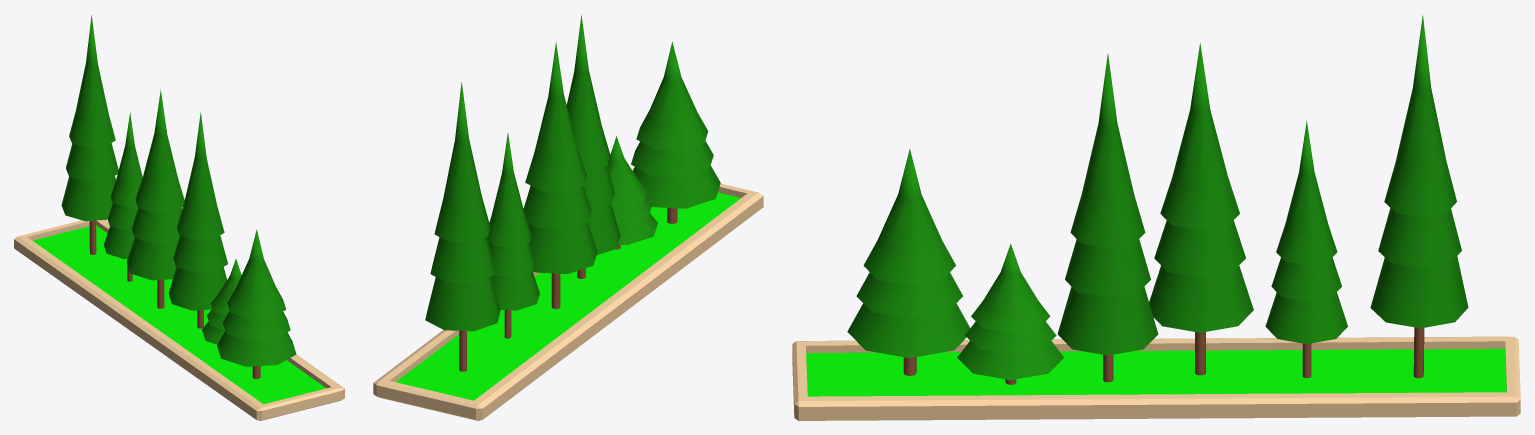
The model's file is treebed.glb.
The picture shows the model from 3 angles, left to right: view 1: azimuth 30°, elevation 25°; view 2: azimuth 150°, elevation 25°; view 3: azimuth 270°, elevation 25°; orthographic projection. The views are drawn at different scales.
Visible parts, largest first — view 1: Firtree_47; view 2: Firtree_47; view 3: Firtree_47.
Part boxes in pixels (x1=…): Firtree_47: x1=14, y1=15, x2=344, y2=420; Firtree_47: x1=373, y1=14, x2=763, y2=420; Firtree_47: x1=792, y1=14, x2=1520, y2=420.
Bounding box in the file's own units: 1.24 × 3.18 × 5.44.
